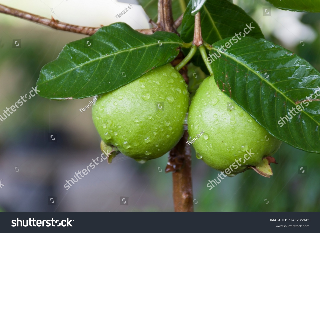oi: (84, 28, 221, 201)
